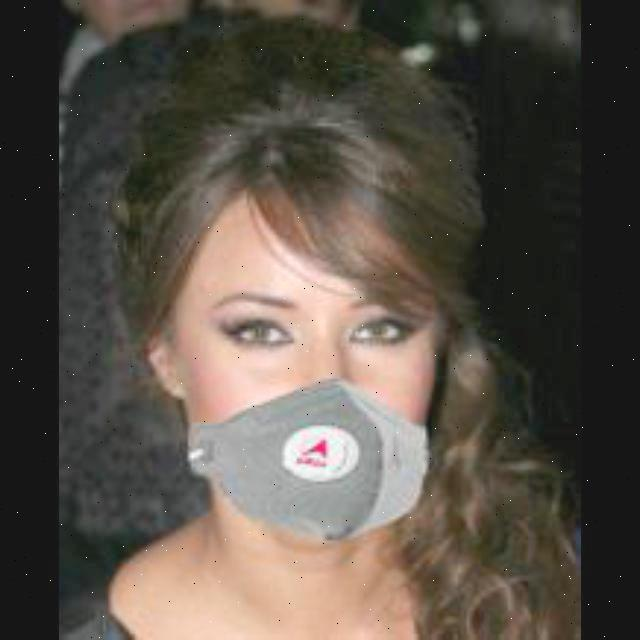suspicion: (120, 129, 518, 537)
